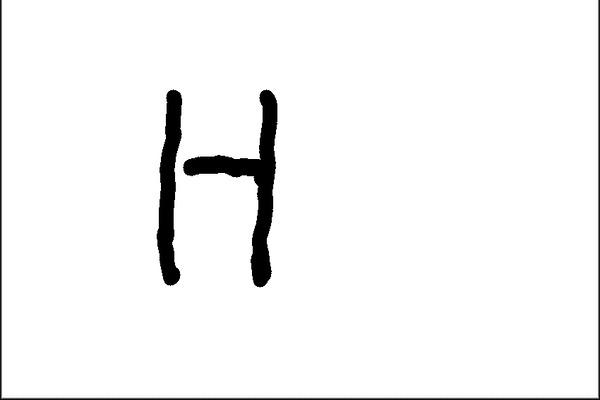H: (143, 81, 287, 290)
